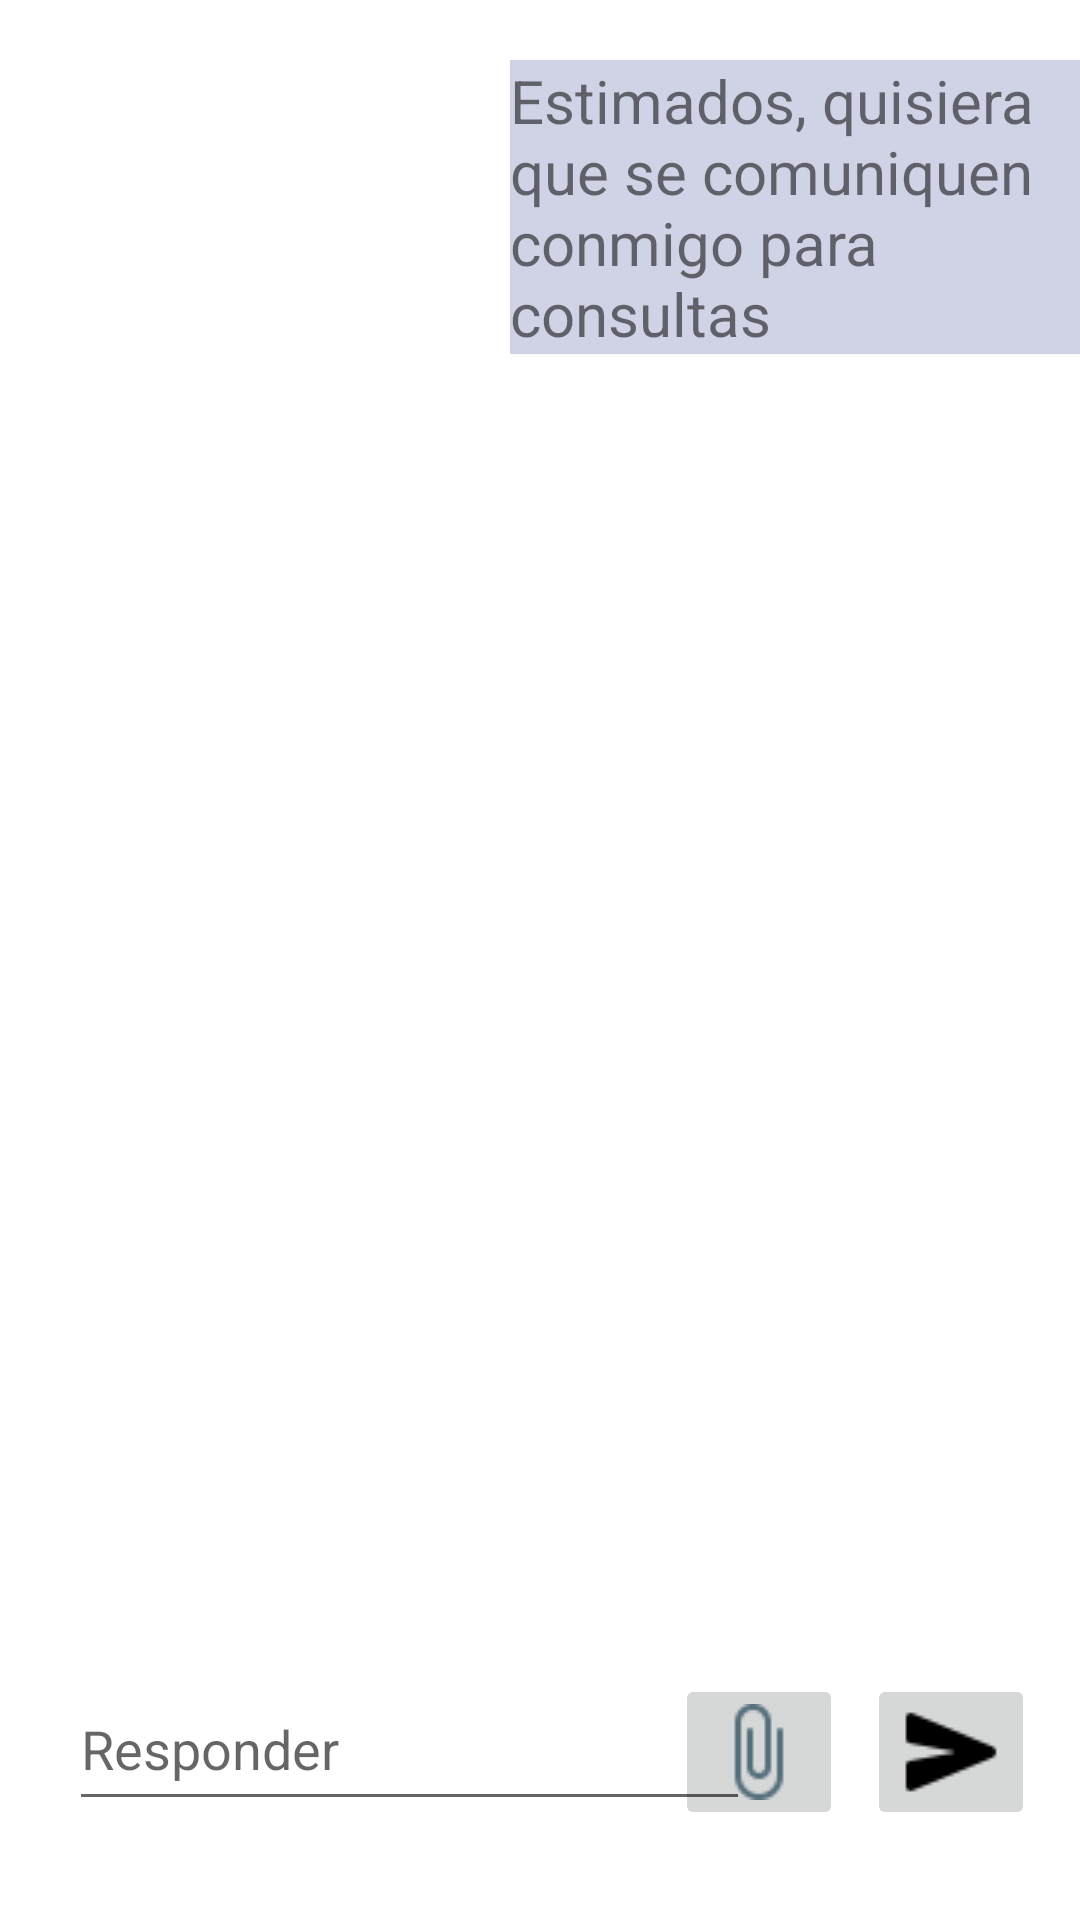

Icons on this 1080px×1920px Android screen, each with its box as (x1, y1, x2, y2):
adjuntar: (675, 1692, 831, 1812)
enviar: (879, 1692, 1023, 1812)
